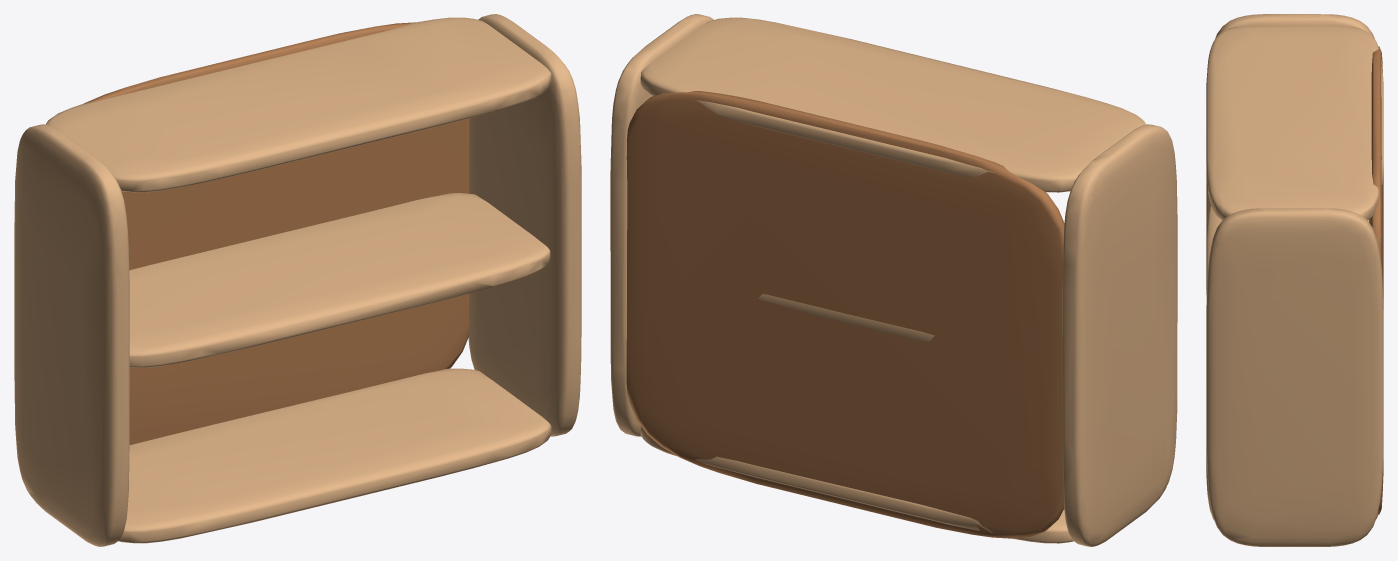
The model's file is vitrina_estante_1.glb.
3 renders of one model, left to right at view 1: azimuth 30°, elevation 25°; view 2: azimuth 150°, elevation 25°; view 3: azimuth 270°, elevation 25°, orthographic. The views are drawn at different scales.
Parts seen in each view (by area): view 1: fondo, repisa.002, lateral, repisa, repisa.001, lateral.001; view 2: fondo, lateral, repisa.002, lateral.001, repisa, repisa.001; view 3: lateral.001, repisa.002, fondo, lateral, repisa.001.
Boxes of the visible parts, x1,y1,x2,y2 form: fondo: (84,22,469,444); repisa.002: (46,17,551,192); lateral: (14,124,129,546); repisa: (118,368,551,543); repisa.001: (129,193,550,367); lateral.001: (468,14,581,436); fondo: (626,91,1064,538); lateral: (1062,124,1177,546); repisa.002: (640,17,1145,192); lateral.001: (610,14,713,436); repisa: (640,426,1073,543); repisa.001: (758,294,934,341); lateral.001: (1206,208,1383,546); repisa.002: (1206,26,1383,220); fondo: (1369,46,1383,514); lateral: (1206,14,1374,246); repisa.001: (1206,204,1368,297).
Size of the model in its own units: 1.31 by 0.9997 by 0.4798.
